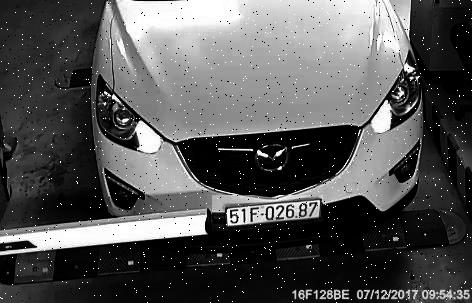License-plate: (213, 197, 324, 234)
